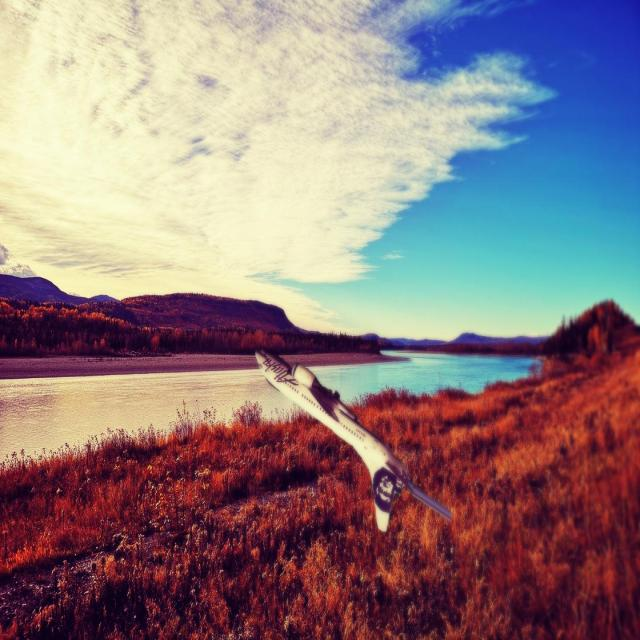airplane: (254, 348, 452, 533)
